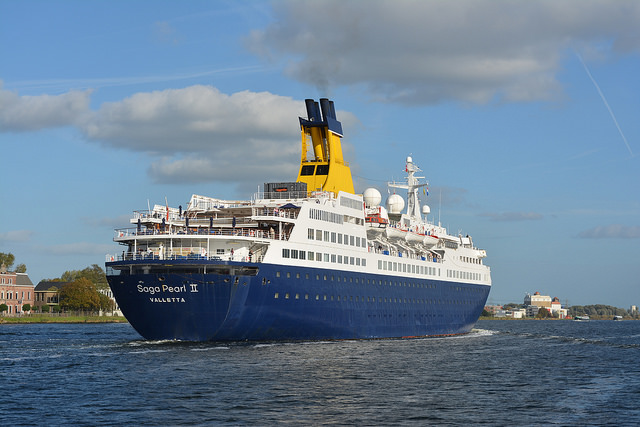cruise_ship: (106, 96, 498, 348)
